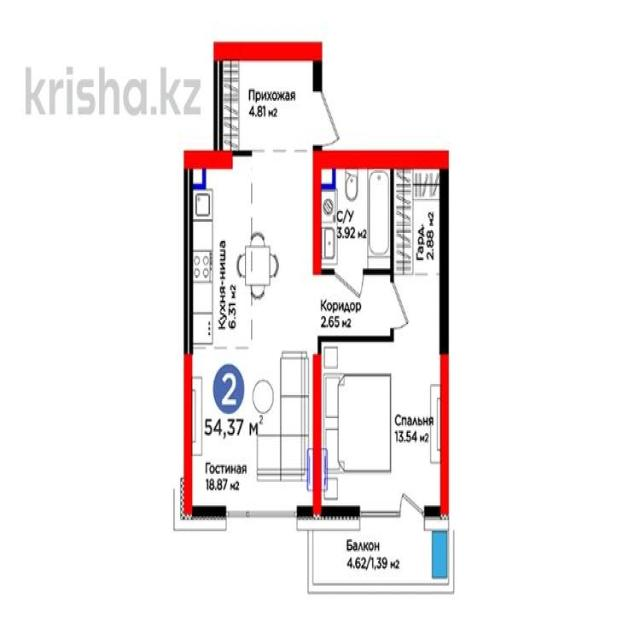balcony: (311, 513, 450, 587)
bathroom: (320, 160, 390, 270)
hallway: (219, 60, 316, 154), (321, 274, 392, 338)
living_room: (318, 339, 444, 512)
studio: (189, 161, 316, 509)
